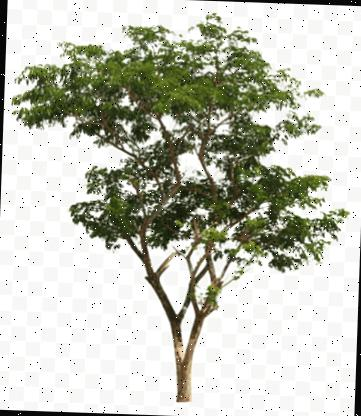tree: (0, 0, 359, 410)
